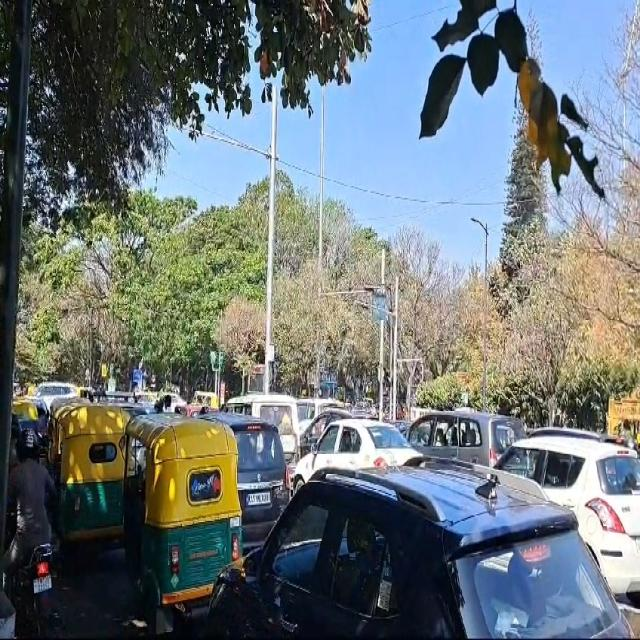cars: (206, 468, 633, 640), (496, 434, 640, 590), (295, 423, 425, 508), (412, 408, 527, 490), (225, 420, 292, 533)
